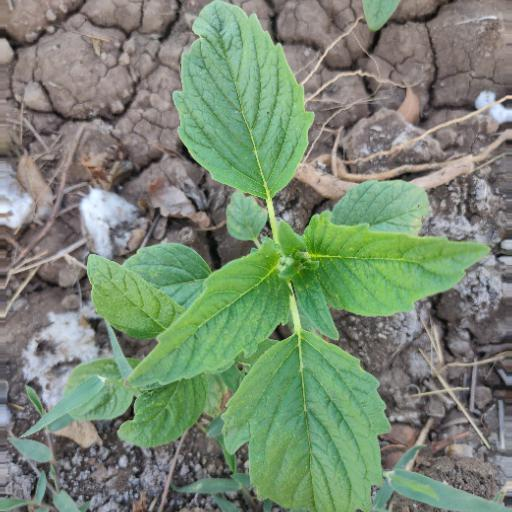crop: (117, 2, 493, 511)
